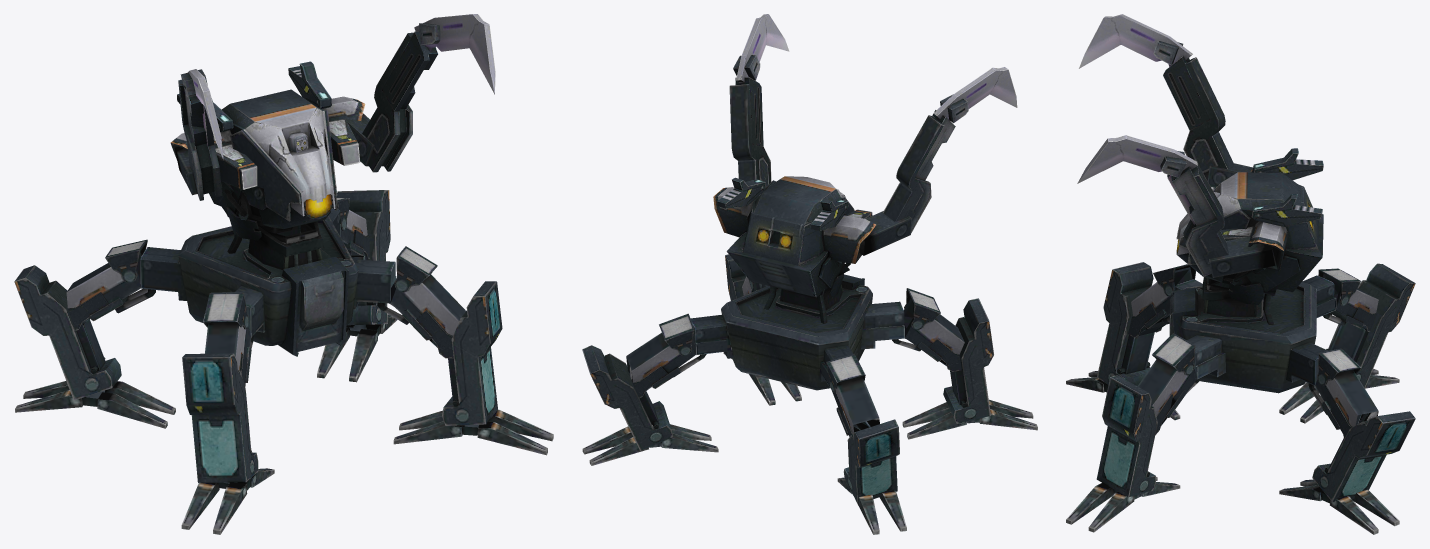
3 renders of one model, left to right at view 1: azimuth 30°, elevation 25°; view 2: azimuth 150°, elevation 25°; view 3: azimuth 270°, elevation 25°, orthographic. The views are drawn at different scales.
Visible parts, largest first — view 1: 20_10; view 2: 20_10; view 3: 20_10.
Boxes of the visible parts, bbox=[...] form: 20_10: bbox=[14, 14, 553, 534]; 20_10: bbox=[582, 14, 1037, 534]; 20_10: bbox=[1066, 14, 1415, 534].
Size of the model in its own units: 301 by 324 by 273.
